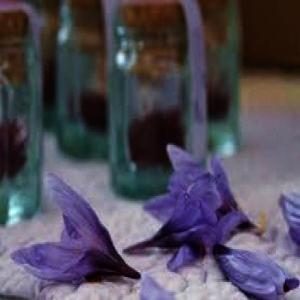Saffron: (12, 173, 139, 282), (120, 181, 217, 263), (215, 241, 300, 300)
